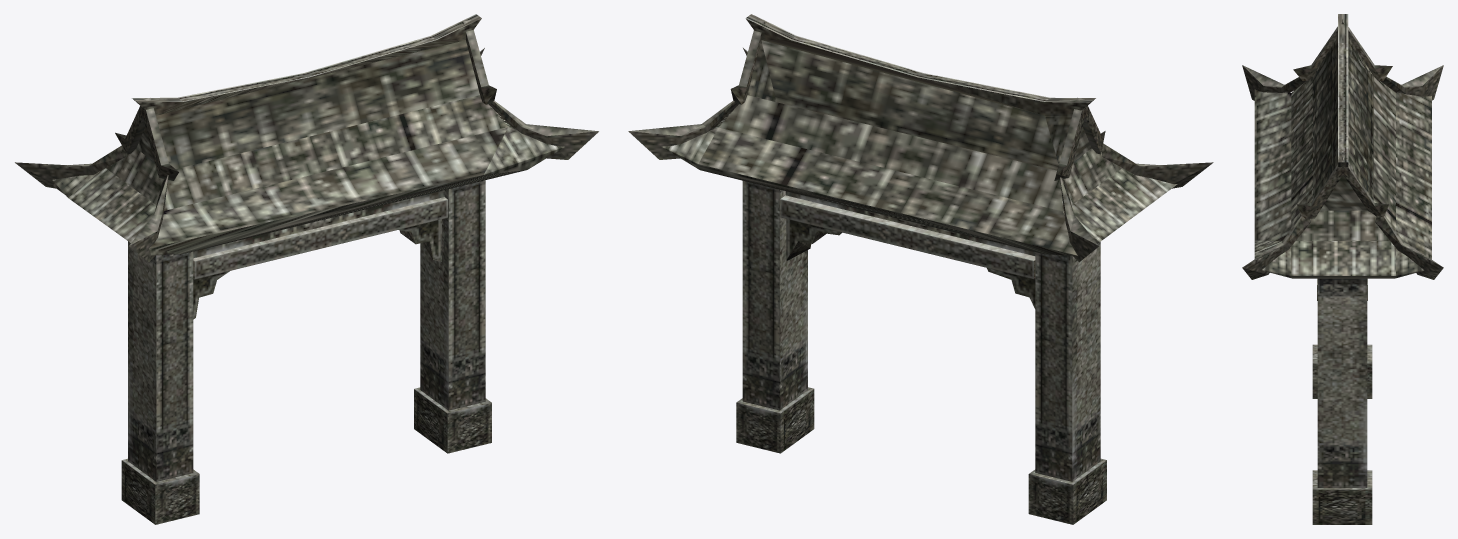
Rendered from general_obj_stonedoor_lod_01.fbx.
3 views of the same model, side by side, from view 1: azimuth 30°, elevation 25°; view 2: azimuth 150°, elevation 25°; view 3: azimuth 270°, elevation 25° (orthographic). The views are drawn at different scales.
Parts seen in each view (by area): view 1: Object05; view 2: Object05; view 3: Object05.
Part boxes in pixels (x1=…): Object05: x1=15, y1=14, x2=598, y2=524; Object05: x1=628, y1=14, x2=1213, y2=524; Object05: x1=1242, y1=14, x2=1443, y2=524.
Size of the model in its own units: 11.16 by 9.36 by 4.7.
